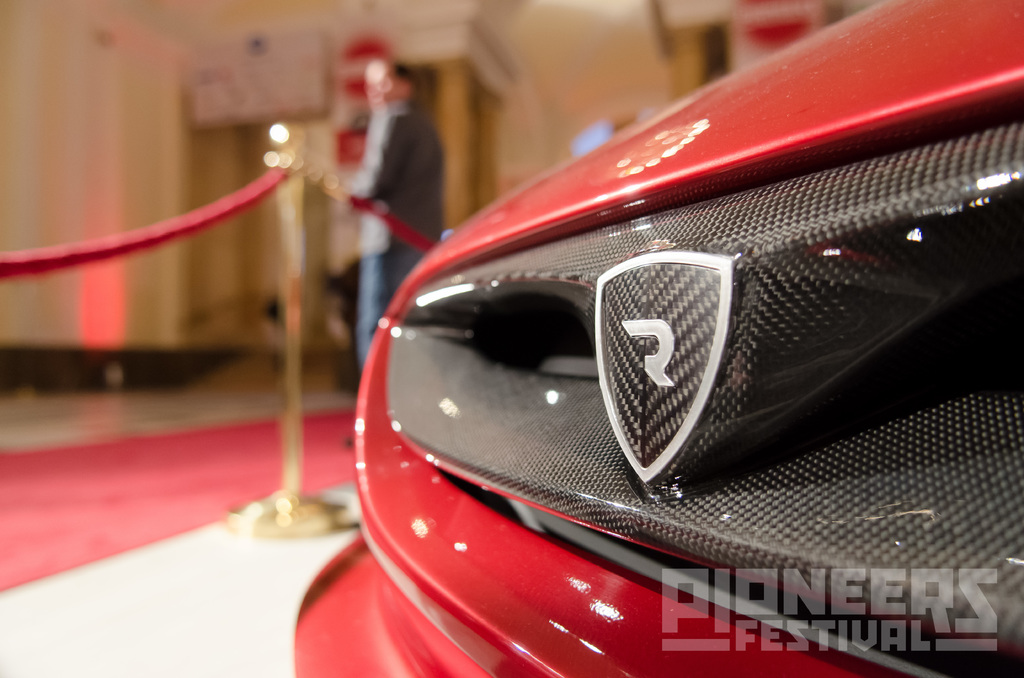cars: (295, 0, 1023, 677)
